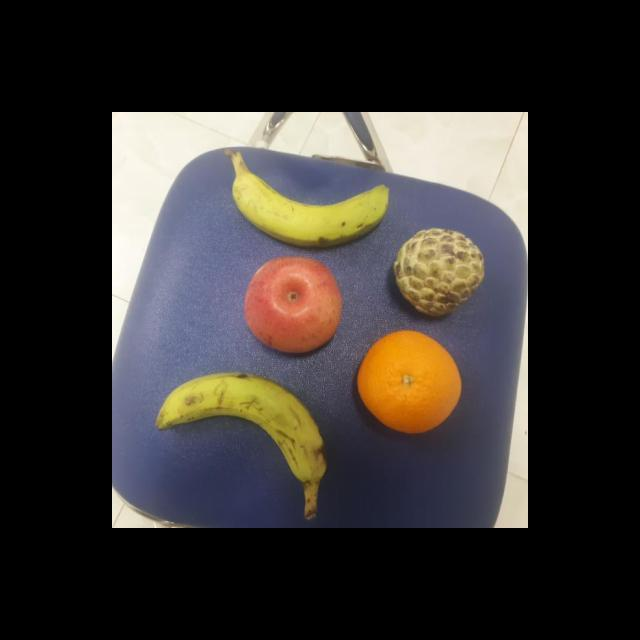Sakya fruit: (392, 228, 486, 318)
apple: (242, 256, 342, 356)
banana: (154, 370, 328, 484), (230, 170, 390, 248)
orange: (349, 328, 464, 436)
